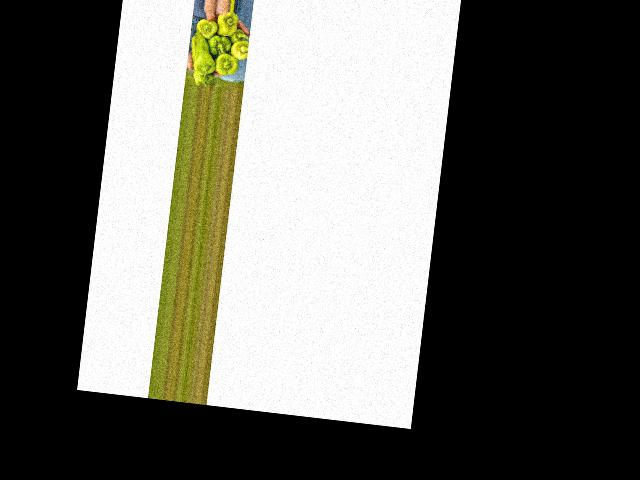bell_pepper: (216, 11, 241, 38)
